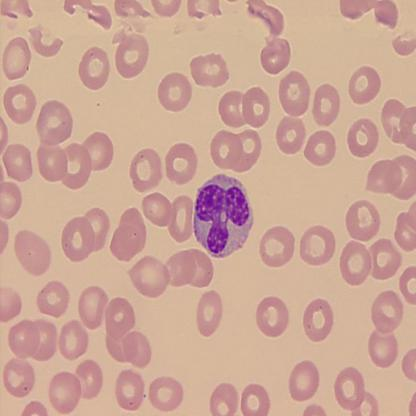Monocyte: (191, 171, 257, 259)
